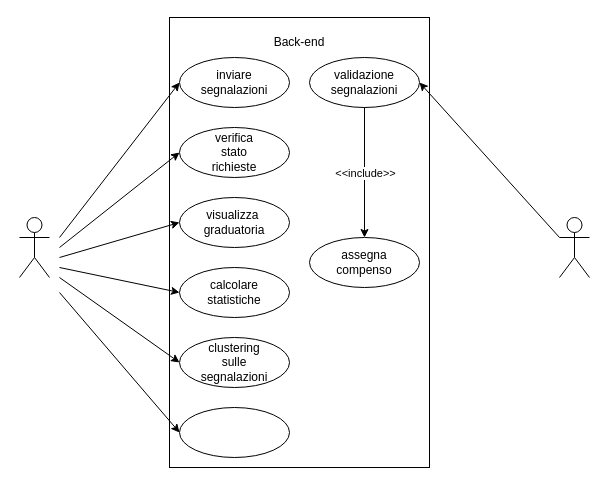
Image size: 609x485. Some labels were removed from this diagram. The shapes that lost their labels are listed below. From the top down, each one's box as (x1, y1, x2, y2) in pixels, then its label:
(18, 216, 50, 278): Utente
(558, 216, 590, 278): Admin
(178, 406, 290, 458): filtraggio segnalazioni
